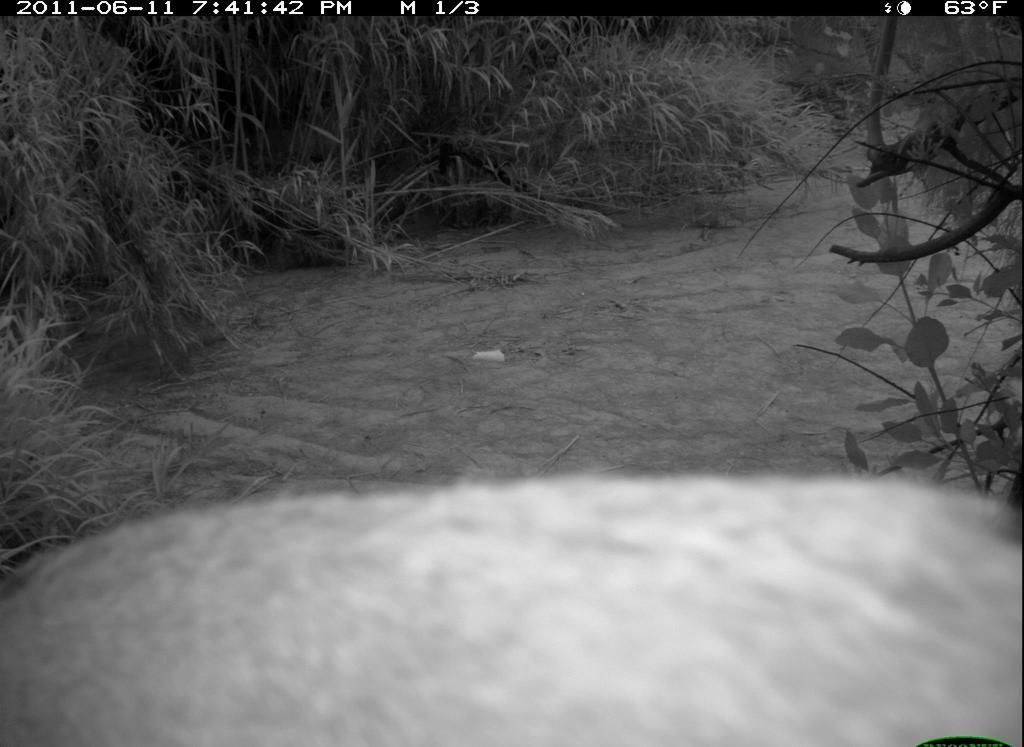bobcat: (2, 446, 1024, 747)
